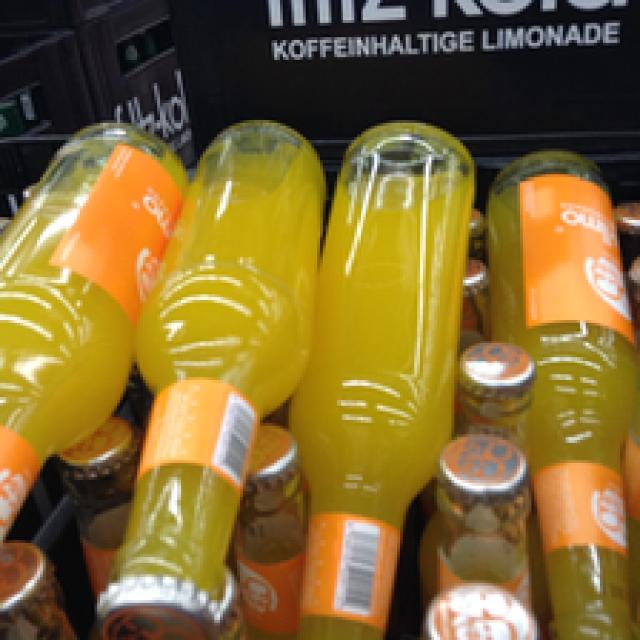groceries: (97, 112, 323, 637), (292, 114, 477, 637), (3, 117, 177, 563), (480, 146, 634, 637)
